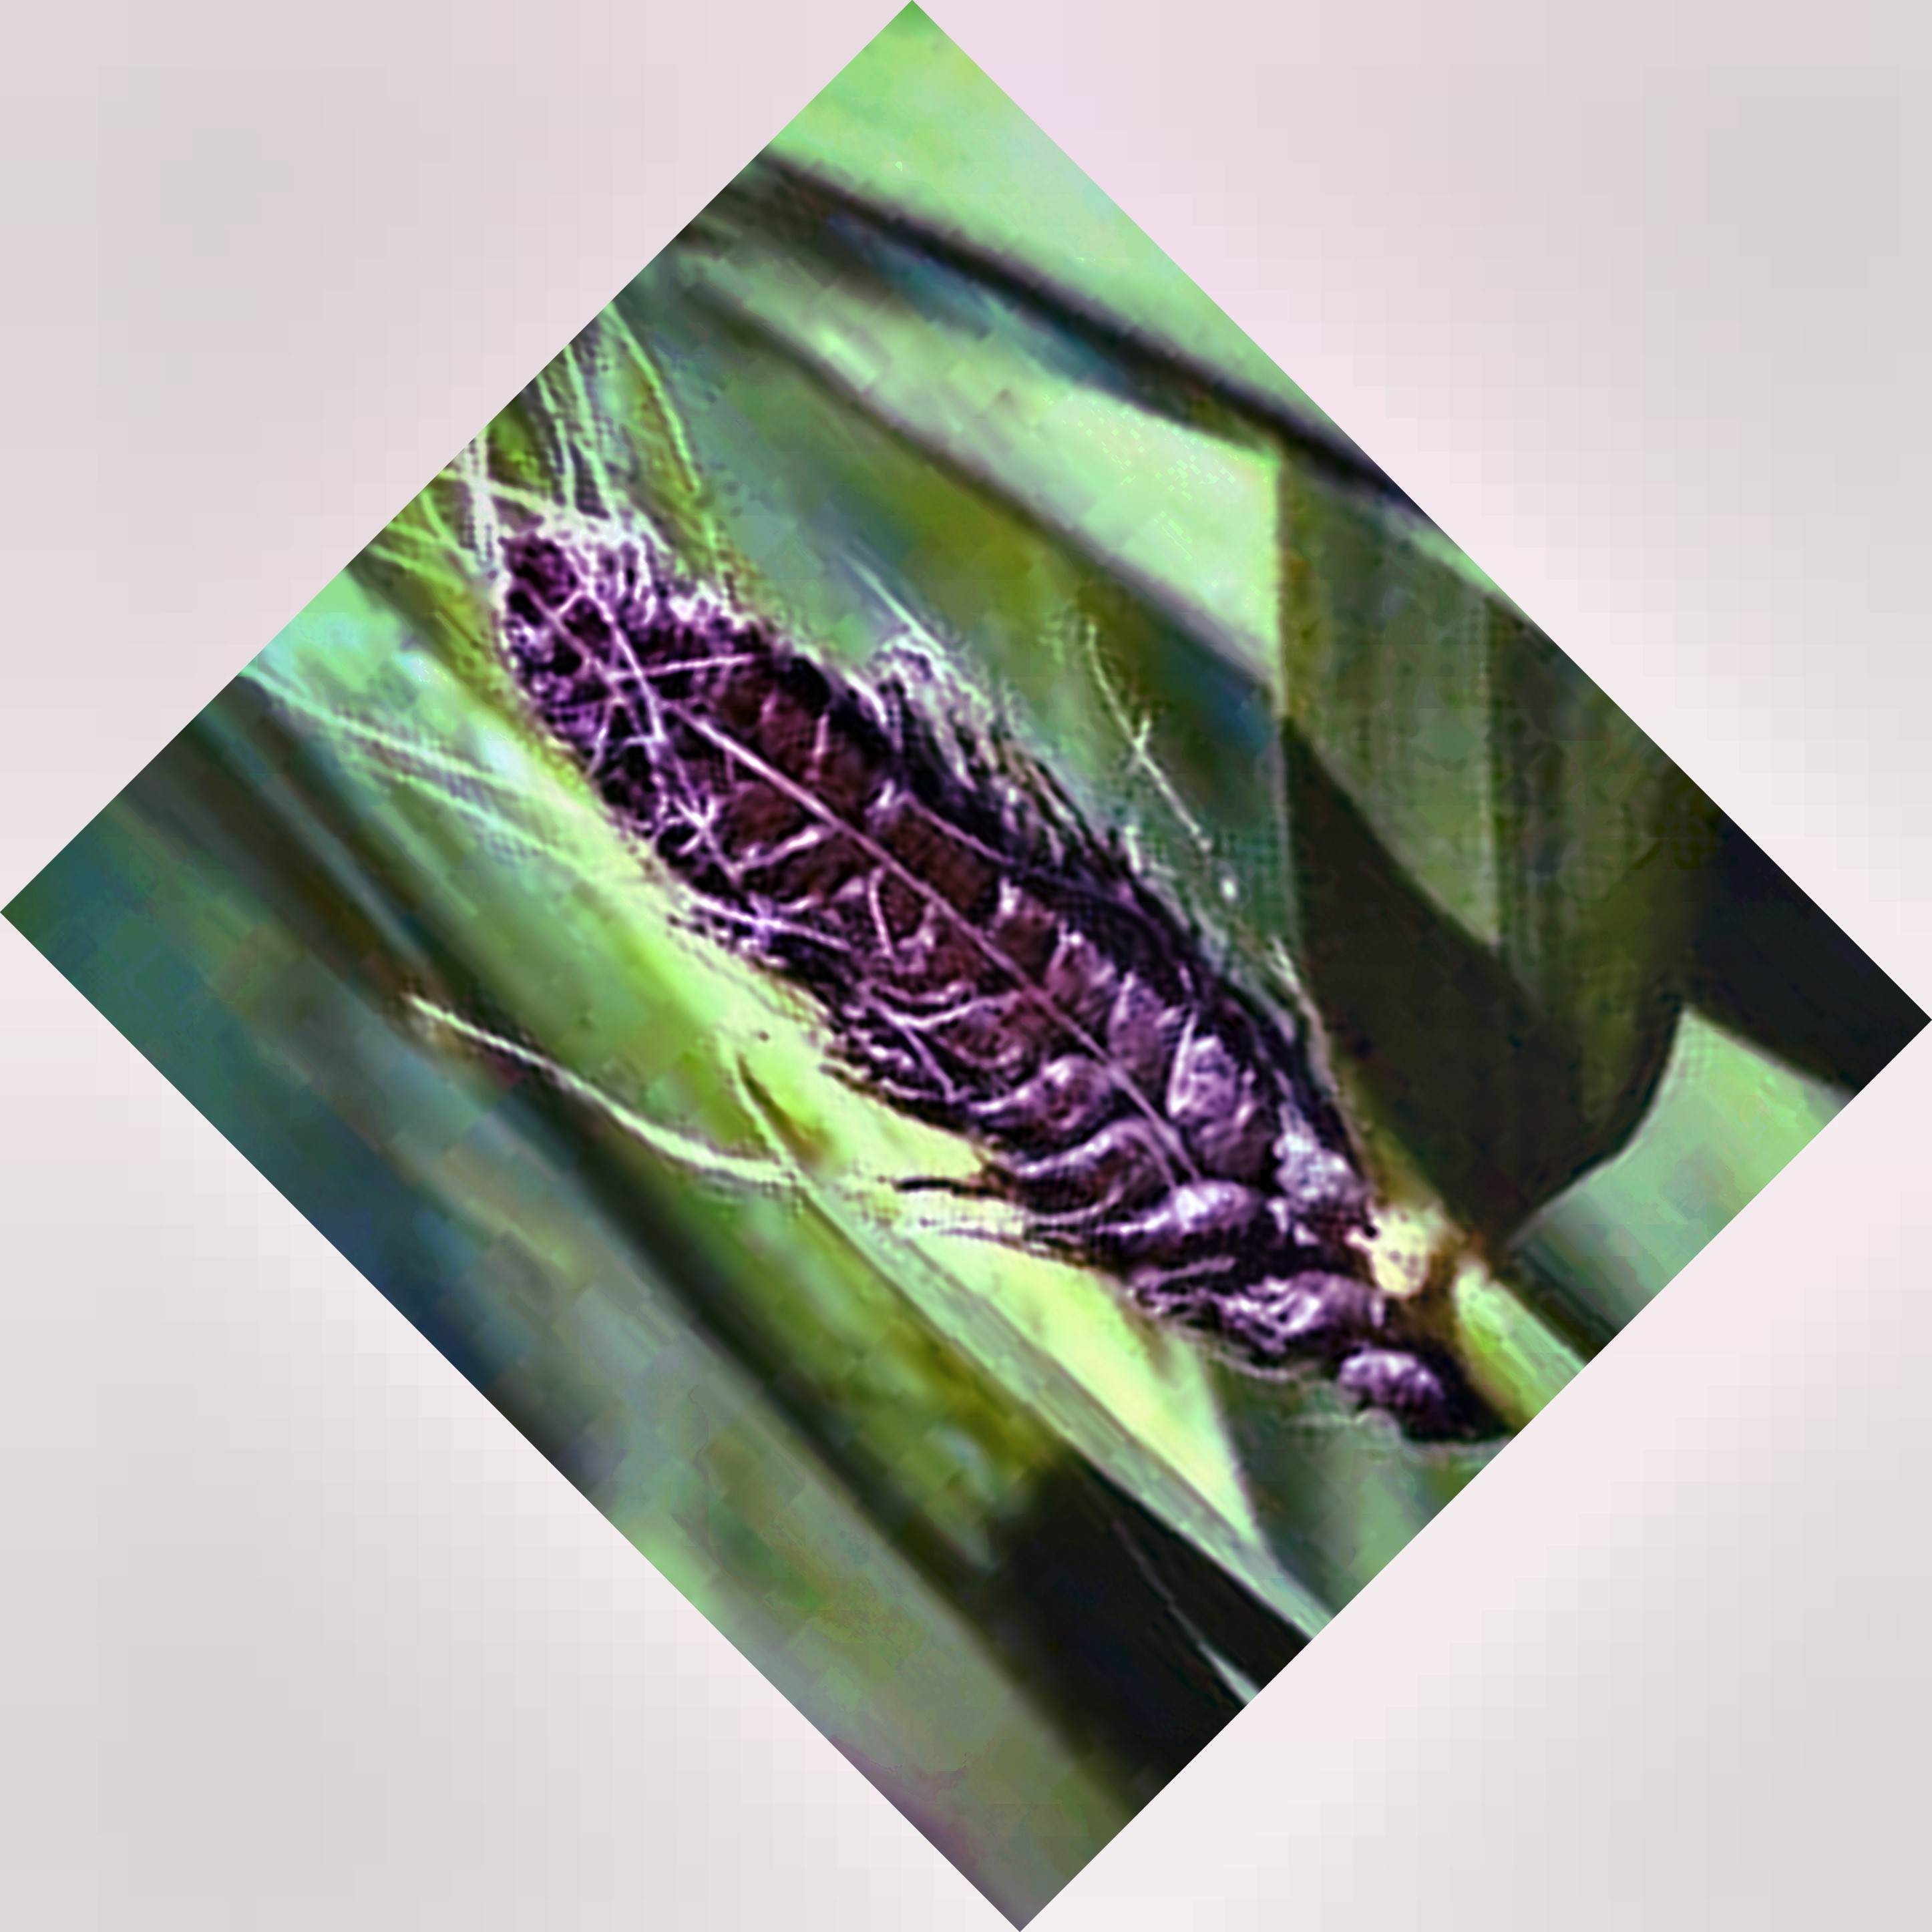Wheat Loose Smut: (464, 501, 1299, 1316)
